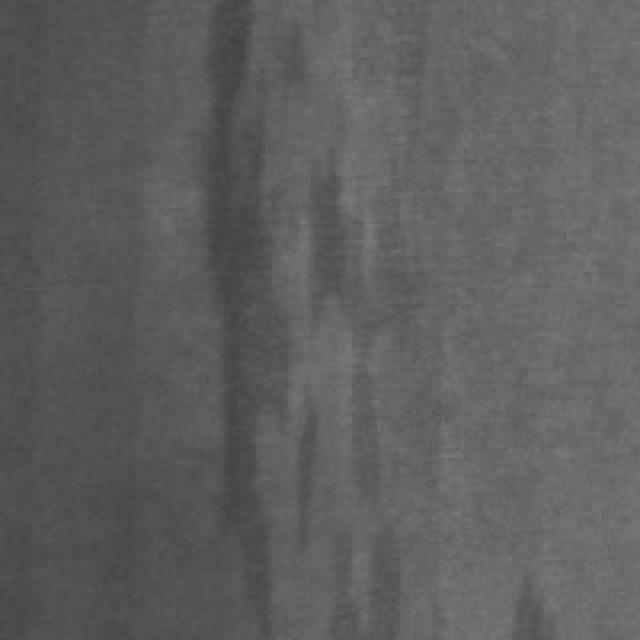inclusion: (202, 0, 400, 627)
